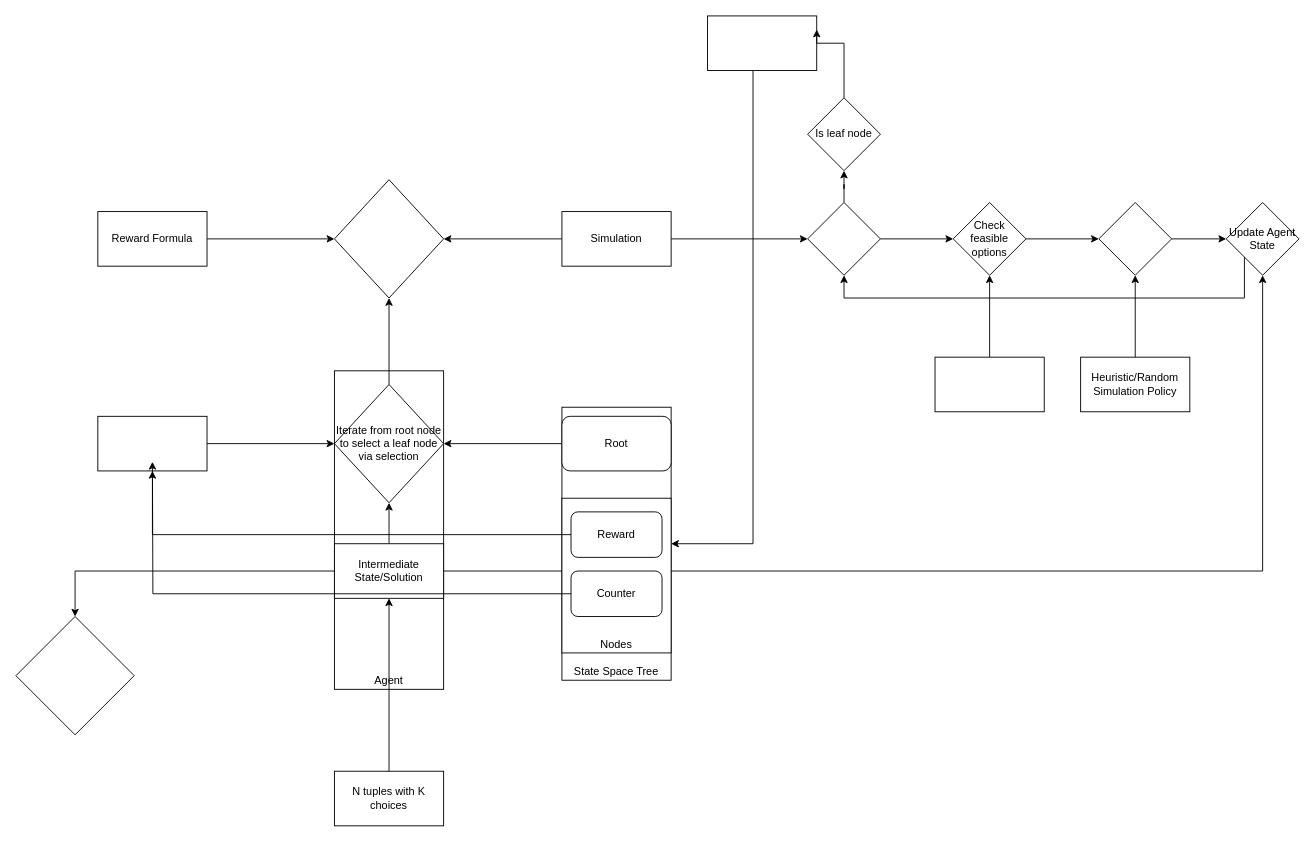
This 1315x842 diagram has some shape labels left out. Each missing label, with the centre of its shape:
"Backpropagation" belongs at [762,43].
"Feasibility Checker" belongs at [989,384].
"If not at leaf node/terminal state" belongs at [843,238].
"If you get L completed branches then terminate" belongs at [74,675].
"Run Simulate at this node and get reward" belongs at [389,238].
"Select an option" belongs at [1135,238].
"Selection" belongs at [152,443].
